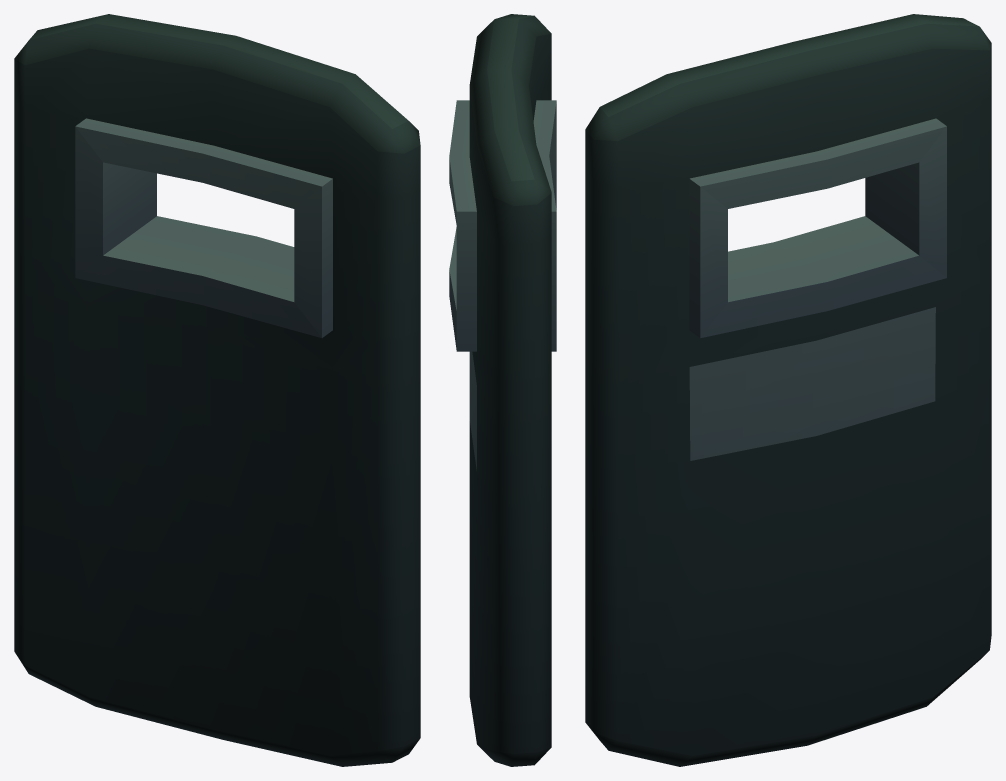
The model's file is riot_shield.fbx.
3 renders of one model, left to right at view 1: azimuth 30°, elevation 25°; view 2: azimuth 150°, elevation 25°; view 3: azimuth 270°, elevation 25°, orthographic. The views are drawn at different scales.
Parts seen in each view (by area): view 1: riot_shield; view 2: riot_shield; view 3: riot_shield.
Part boxes in pixels (box(x1,y1,x2,y2)): riot_shield: box(14, 14, 420, 766); riot_shield: box(449, 14, 556, 766); riot_shield: box(585, 14, 991, 766).
Size of the model in its own units: 33.73 by 97.9 by 51.95.
Materials: 1 (1 with a texture image).
